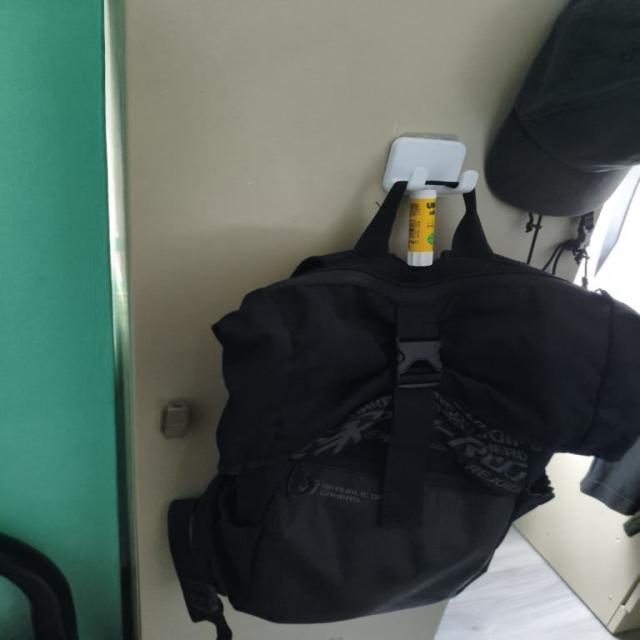glue: (408, 189, 435, 266)
